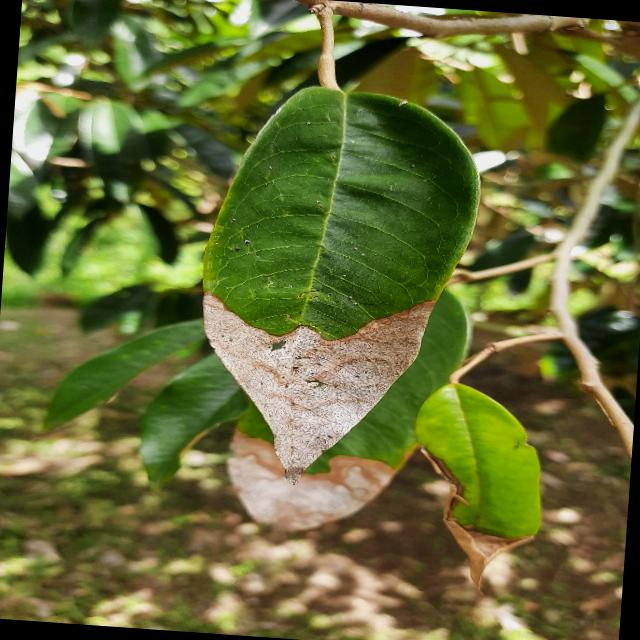Leaf Blight: (176, 70, 492, 554)
